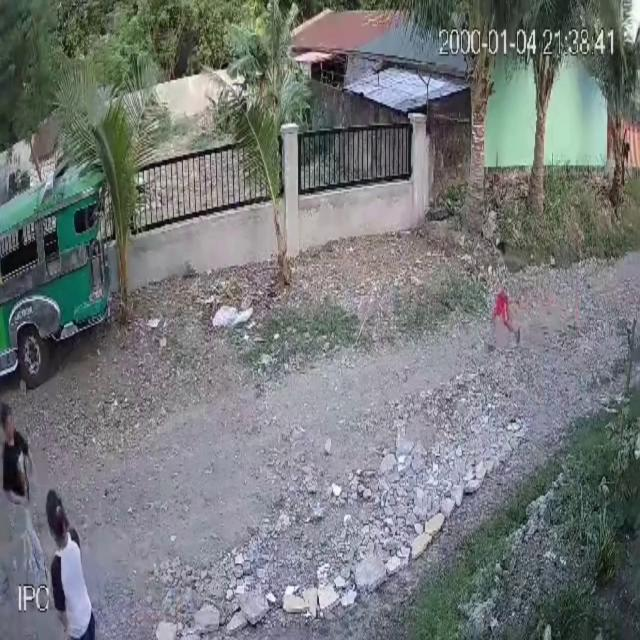running: (476, 242, 522, 358)
walking: (0, 395, 56, 601), (41, 481, 103, 640), (620, 126, 630, 190)
